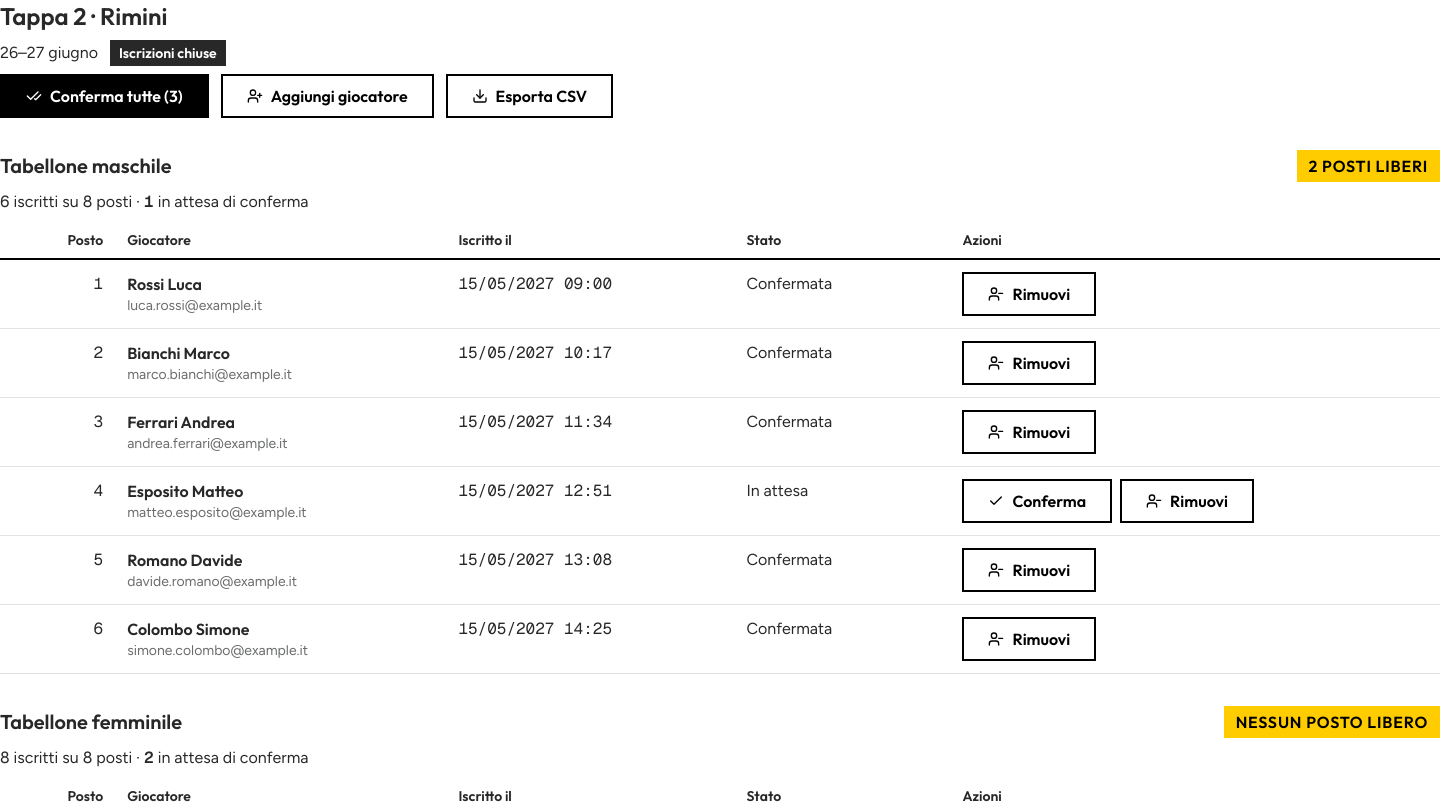
IscrittiTappa (w-admin-iscritti) › cerca, annuncia quanti giocatori ha trovato e spiega chi non si può aggiungere
This screenshot has width=1440, height=810.
Click the button "Aggiungi giocatore".
click(327, 96)  # box [221,74,434,118]
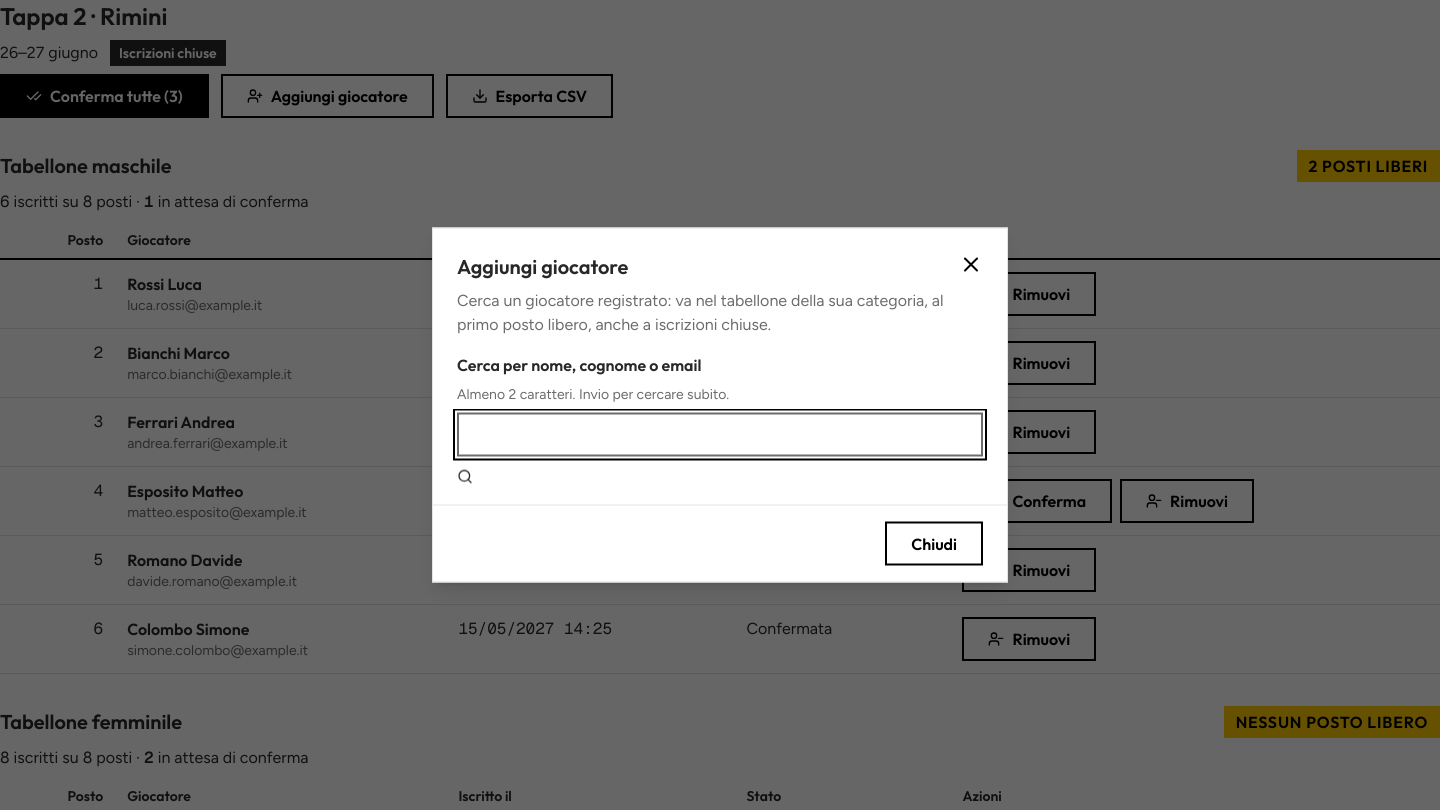
Type "r" into the search field labelled "Cerca per nome, cognome o email".
click(720, 434); type("r")  # box [457,412,983,456]
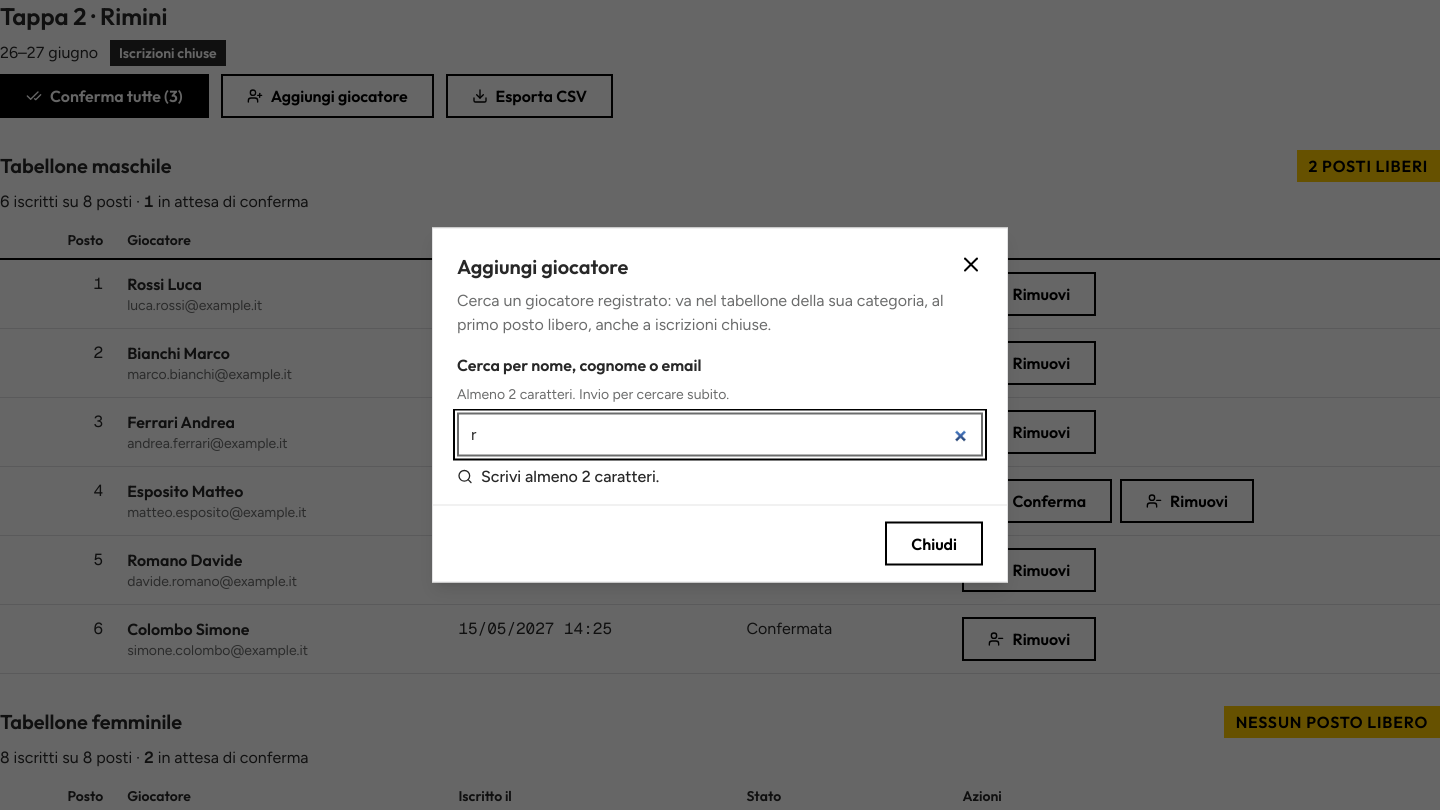
Expected: the message reads "Scrivi almeno 2 caratteri.", [481,466,659,486]
Type "os" into the search field labelled "Cerca per nome, cognome o email".
click(720, 434); type("os")  # box [457,412,983,456]
Then press Enter
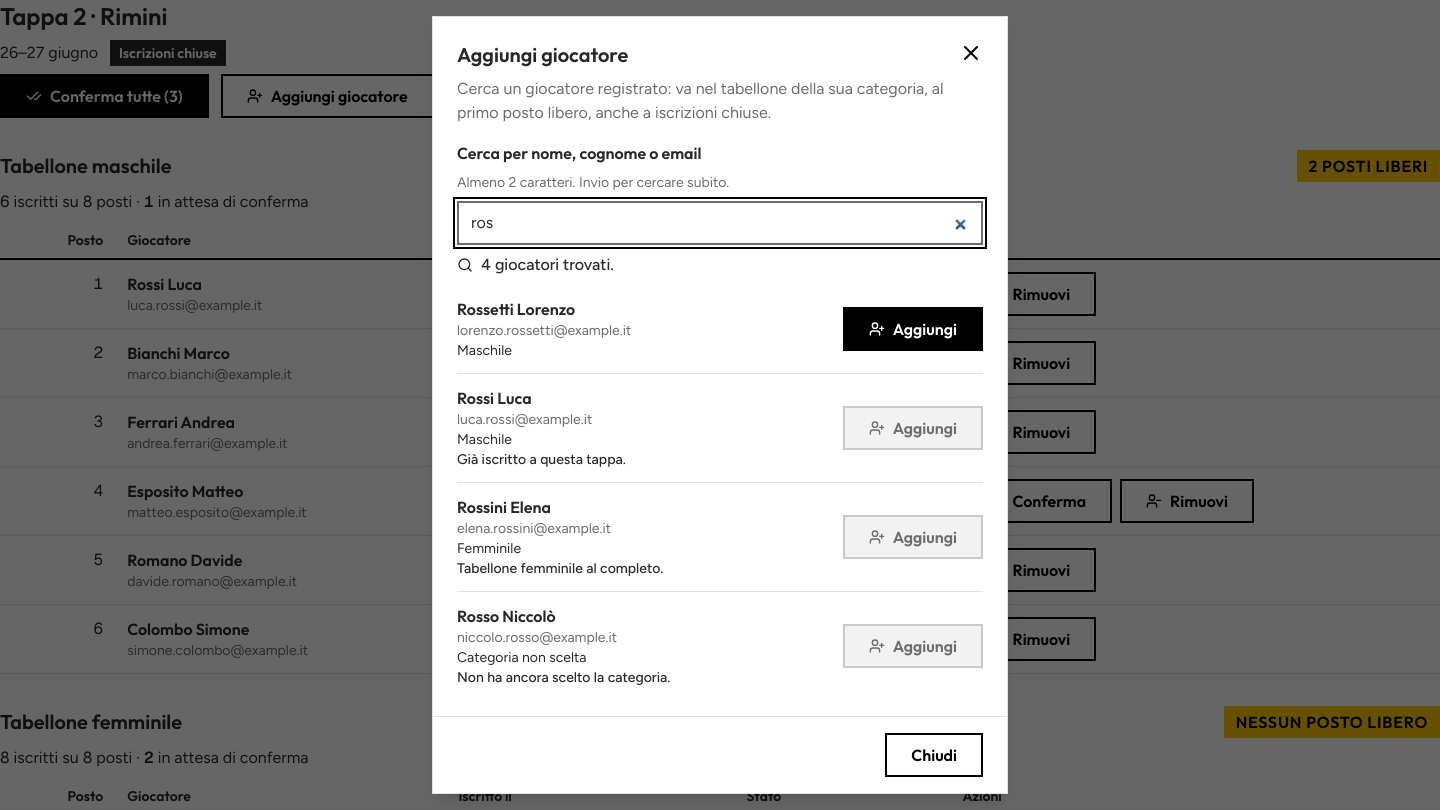
Expected: the message reads "4 giocatori trovati.", [481,255,614,274]
Click the button with aria-label "Aggiungi Rossetti Lorenzo".
click(913, 329)  # box [843,307,983,351]
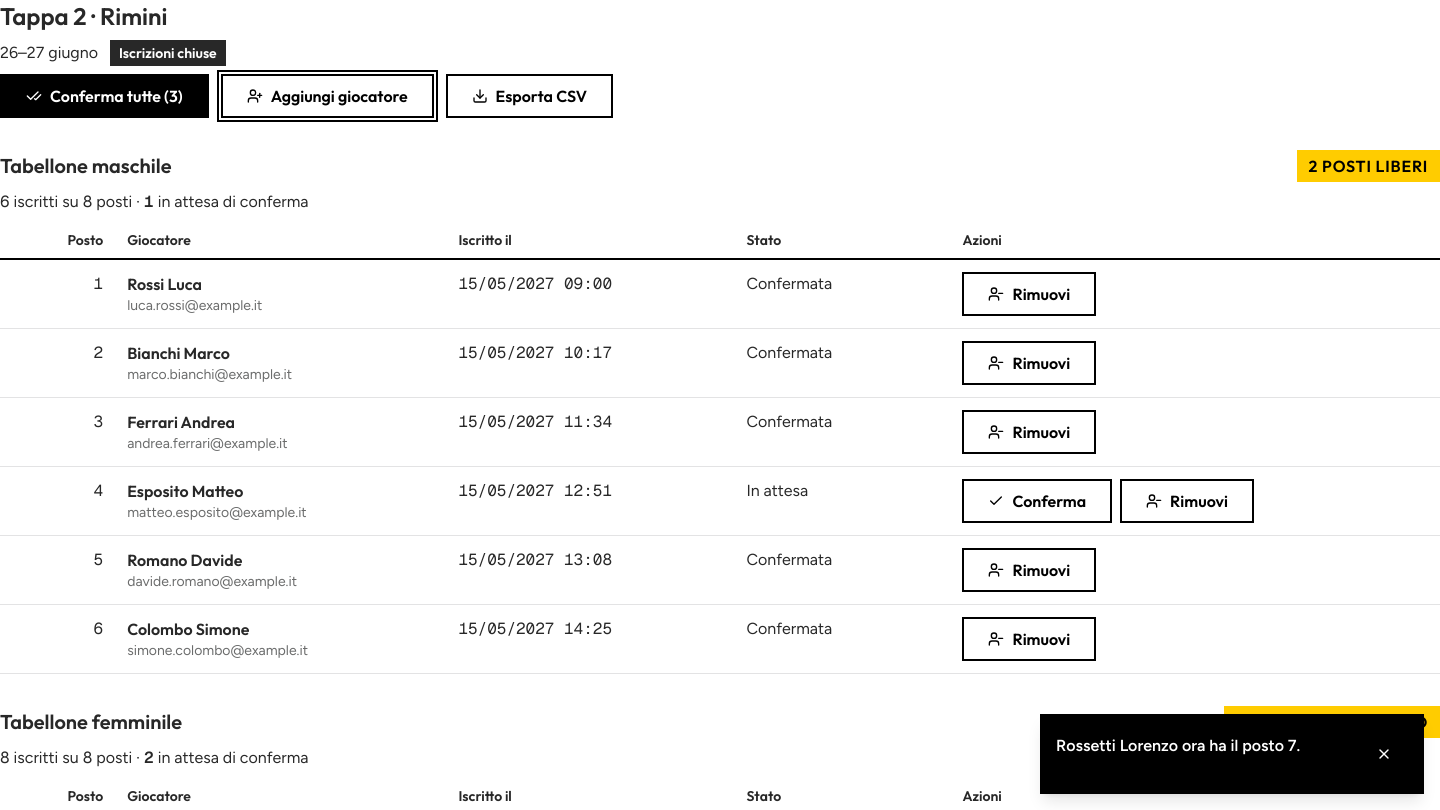
Expected: the heading "Rossetti Lorenzo ora ha il posto 7." is shown, [1056,736,1300,755]
